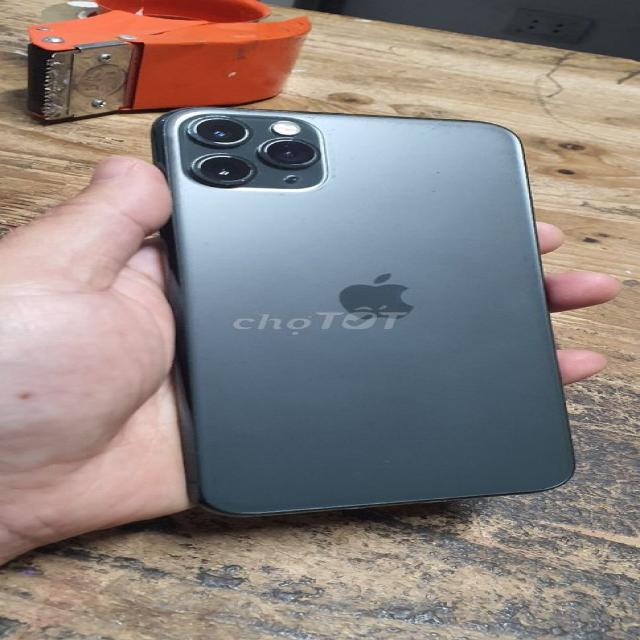gen_11: (137, 102, 598, 522)
